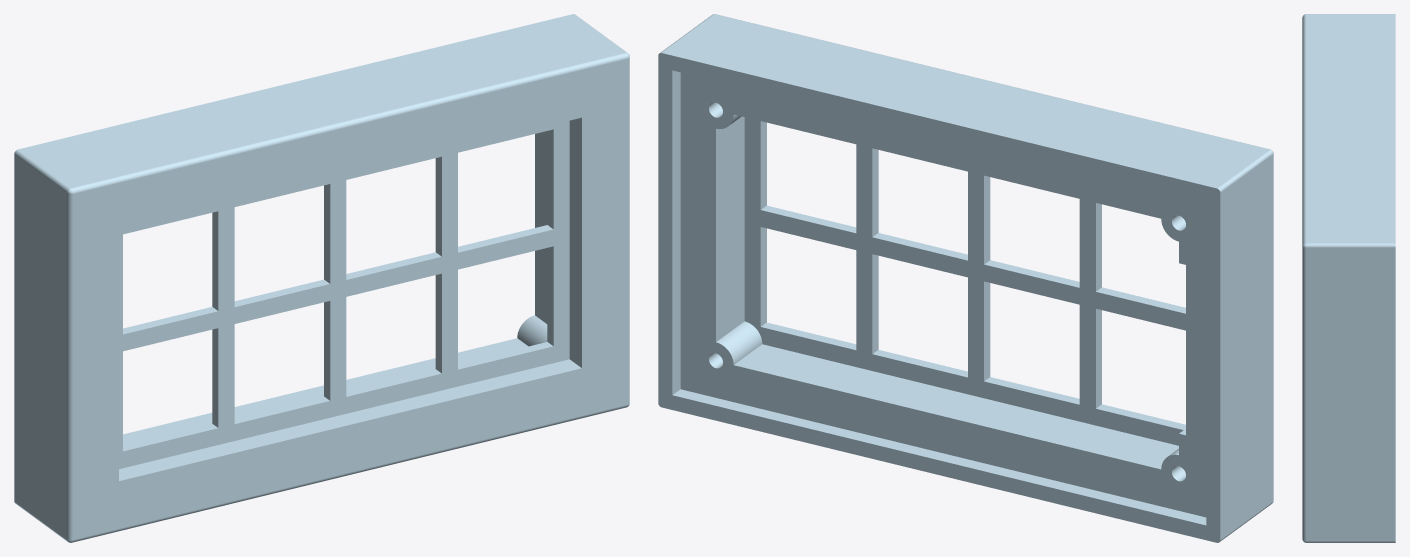
The picture shows the model from 3 angles, left to right: view 1: azimuth 30°, elevation 25°; view 2: azimuth 150°, elevation 25°; view 3: azimuth 270°, elevation 25°; orthographic projection. The views are drawn at different scales.
Visible parts, largest first — view 1: Part 1; view 2: Part 1; view 3: Part 1.
Part boxes in pixels (<box>): Part 1: <box>14,14,629,542</box>; Part 1: <box>658,14,1273,542</box>; Part 1: <box>1302,14,1395,542</box>.
Size of the model in its own units: 0.0794 by 0.0478 by 0.0135.
